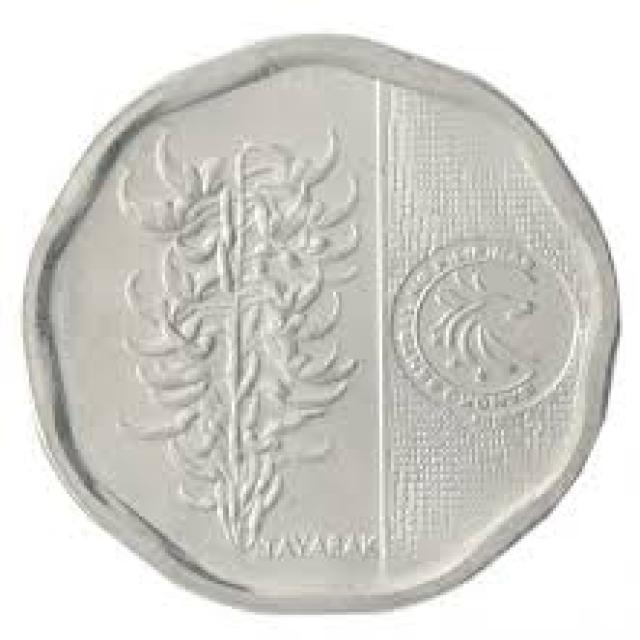5 peso: (24, 24, 622, 624)
